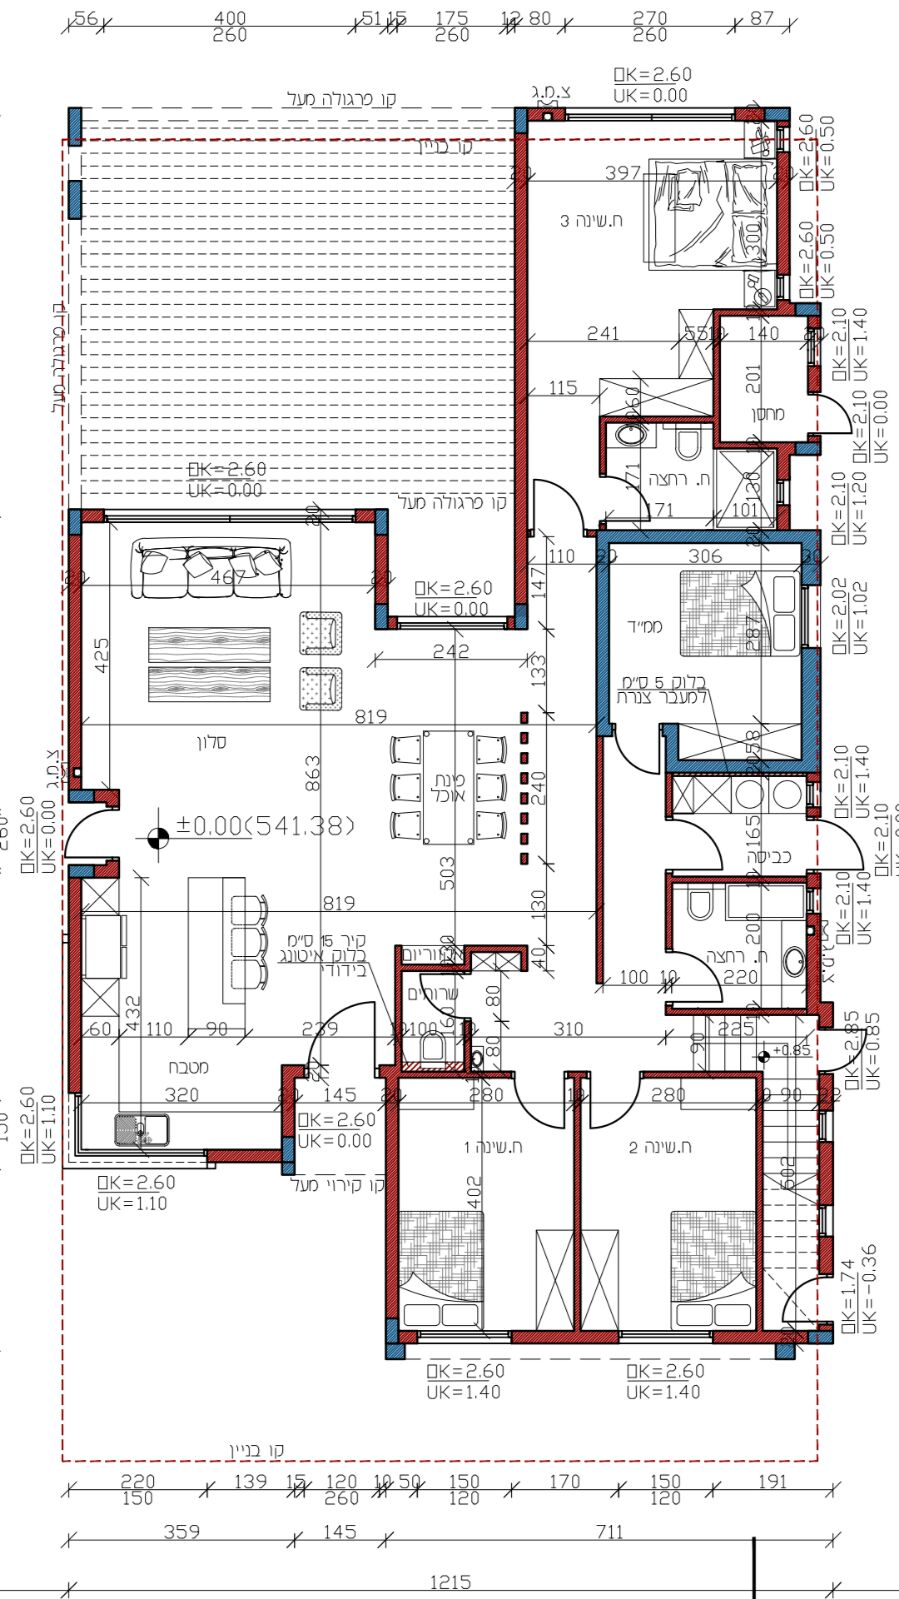door: (306, 998, 383, 1063), (531, 471, 589, 529), (609, 735, 667, 793), (586, 1080, 645, 1133), (513, 1081, 572, 1134), (55, 805, 108, 865), (409, 972, 468, 1025), (677, 814, 724, 873), (829, 1024, 878, 1080), (677, 950, 726, 1006), (819, 819, 867, 874), (613, 472, 653, 526), (818, 390, 856, 440)
wall: (514, 109, 529, 631), (69, 508, 85, 802), (386, 1078, 400, 1358), (69, 865, 79, 1093), (280, 1065, 295, 1175)
window: (103, 508, 353, 521), (565, 107, 733, 120), (395, 615, 505, 629), (617, 1329, 711, 1343), (416, 1329, 510, 1343), (800, 584, 819, 647), (806, 326, 821, 365), (818, 1110, 833, 1143), (818, 1203, 833, 1235), (805, 780, 820, 805), (806, 886, 821, 912), (777, 273, 790, 299), (776, 127, 789, 152), (776, 479, 788, 503)
